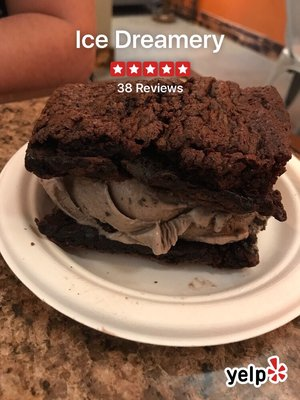soup: (19, 75, 293, 269)
